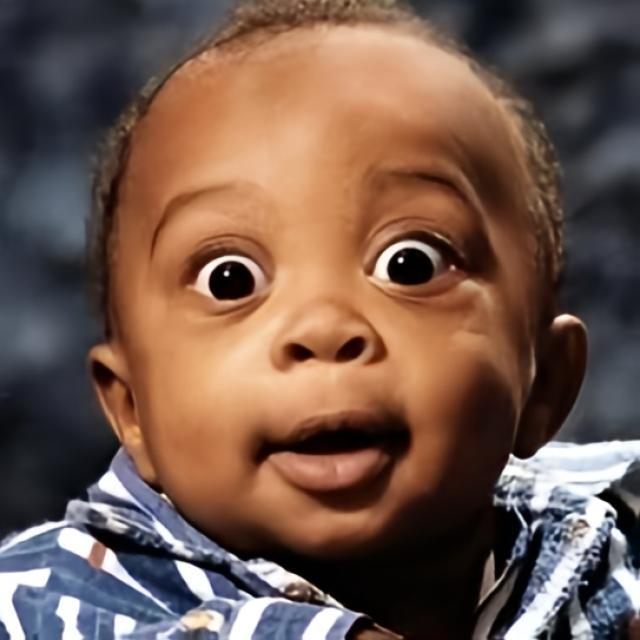surprise: (107, 21, 537, 564)
